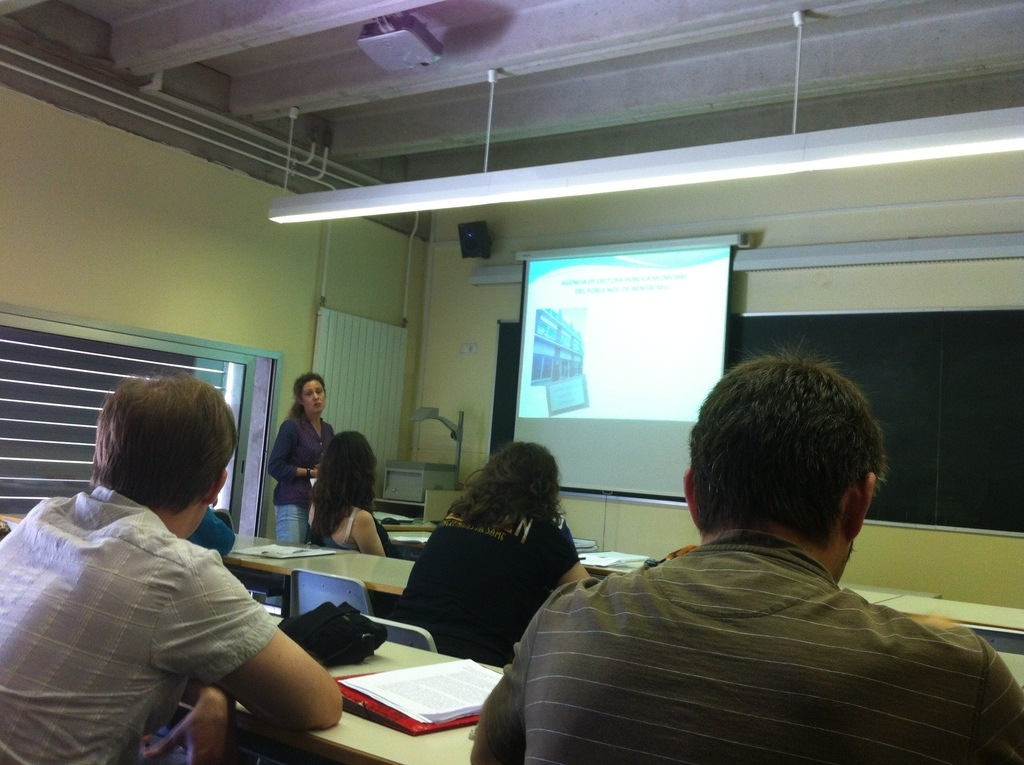Human_hand: (157, 696, 228, 764)
